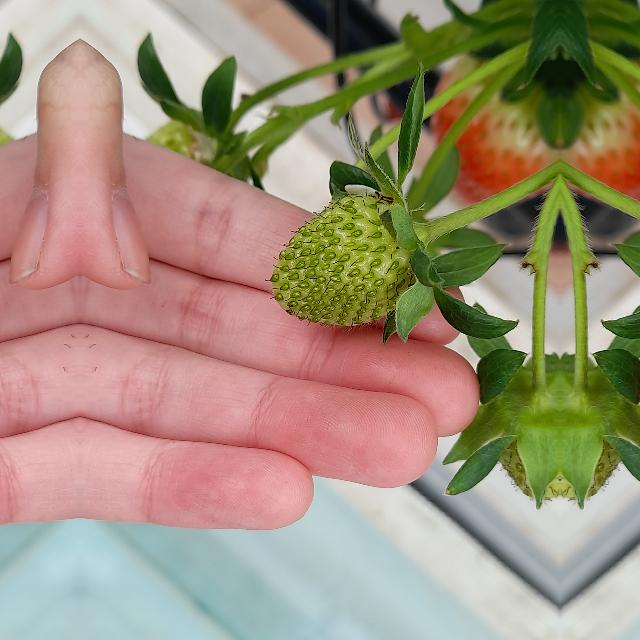Health_25: (270, 194, 414, 326)
